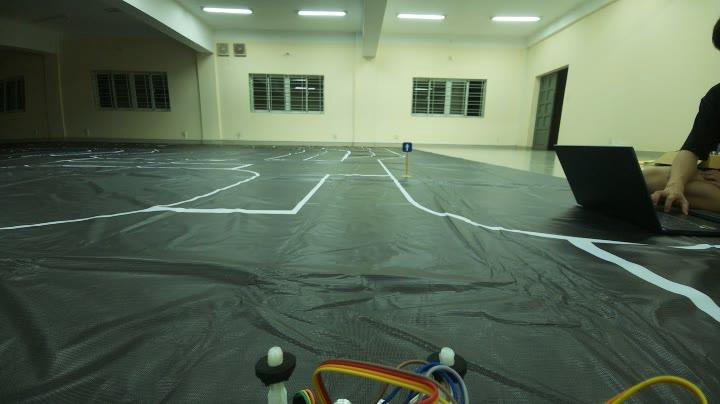onewayroad: (400, 134, 414, 156)
